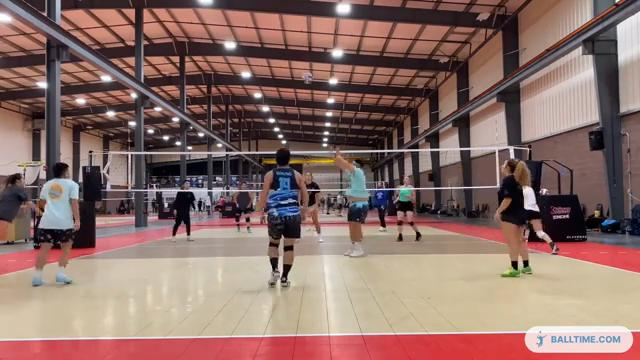alzata: (328, 150, 371, 260)
